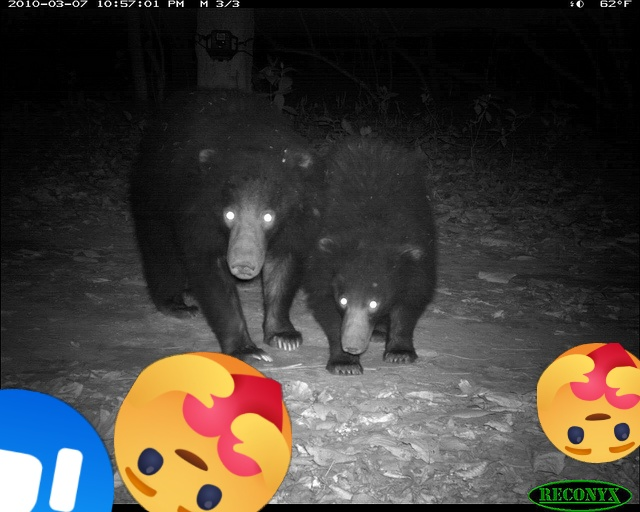care: (114, 352, 292, 512), (537, 343, 640, 463)
like: (0, 389, 114, 512)
